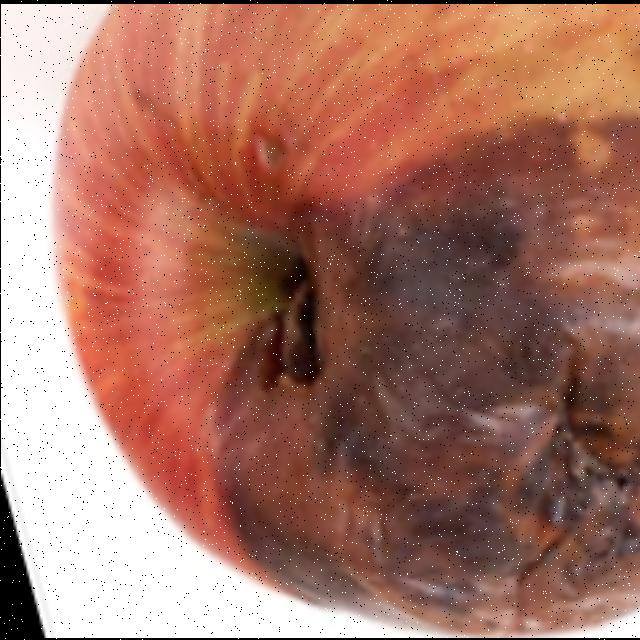Apel Tidak Segar: (50, 2, 640, 626)
